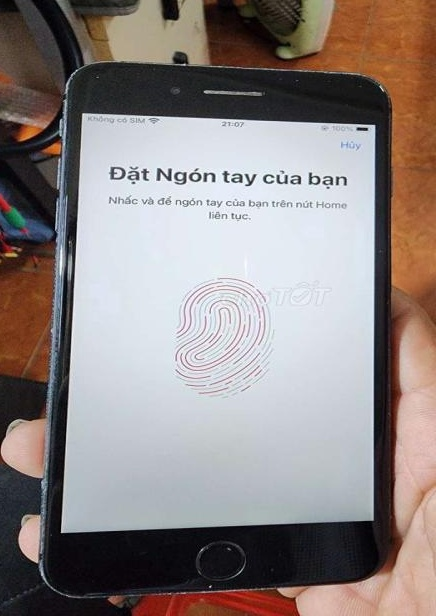scratch: (82, 59, 379, 110), (46, 214, 74, 442), (125, 578, 328, 602), (38, 453, 67, 569), (213, 539, 281, 574), (375, 76, 403, 102), (368, 240, 390, 261)
